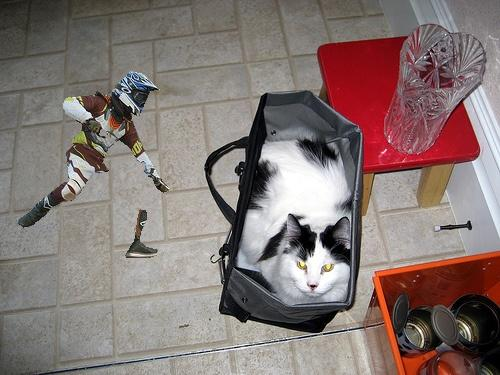tampered: (17, 72, 169, 258)
